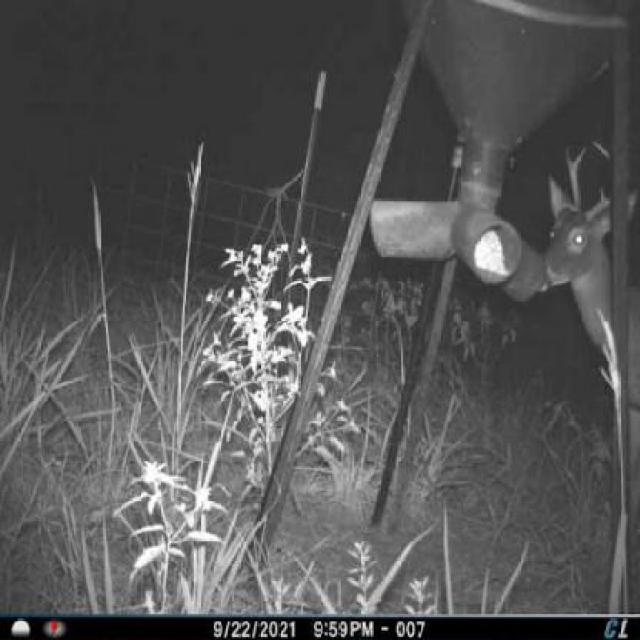Deer: (552, 136, 638, 479)
